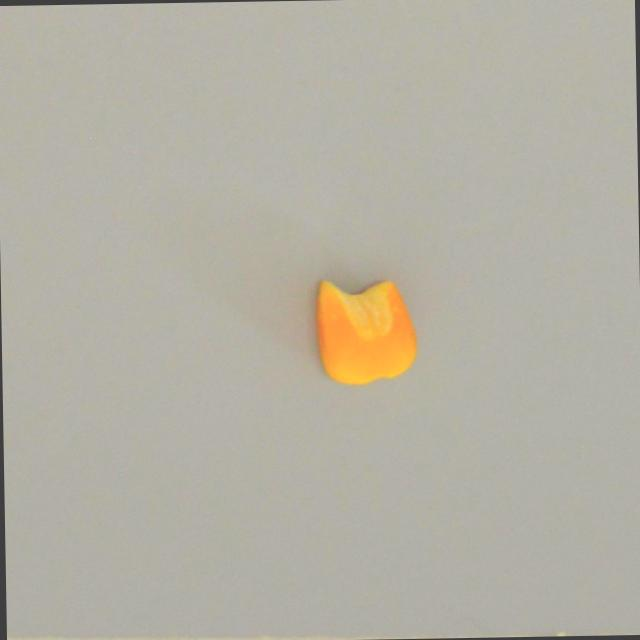no_canjicado: (305, 261, 425, 397)
